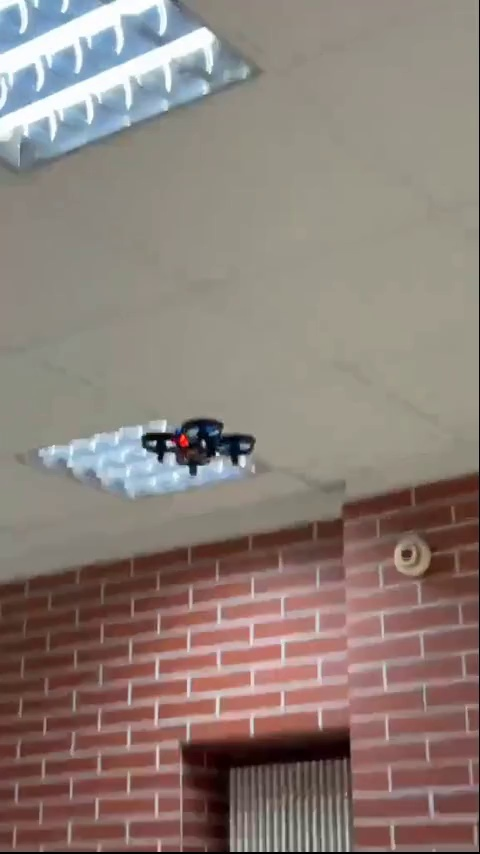drone: (144, 417, 252, 477)
